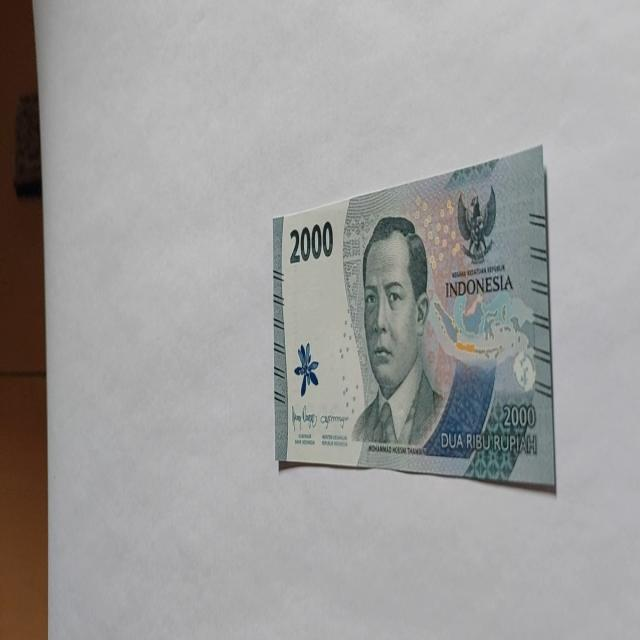dua ribu rupiah: (272, 144, 556, 491), (350, 214, 446, 452)
